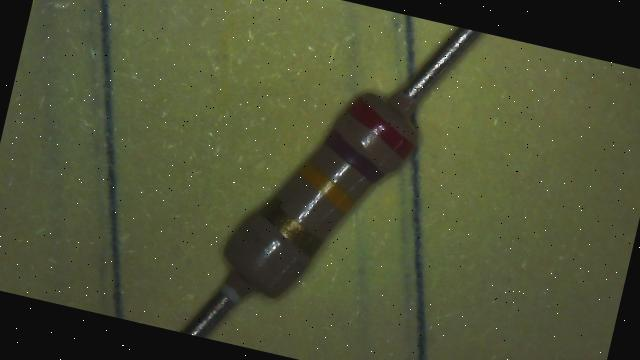gold: (252, 202, 328, 255)
red: (338, 96, 422, 160)
resistor: (195, 59, 460, 331)
violet: (320, 129, 391, 183)
yellow: (291, 159, 360, 214)
